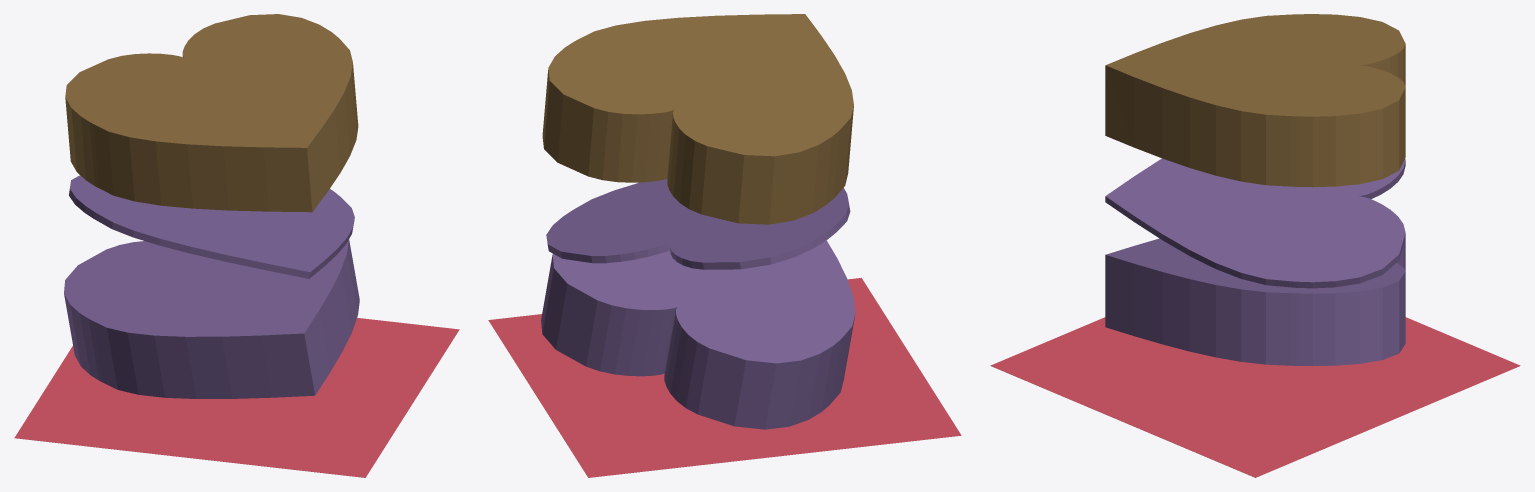
Rendered from UUC.glb.
The picture shows the model from 3 angles, left to right: view 1: azimuth 30°, elevation 25°; view 2: azimuth 150°, elevation 25°; view 3: azimuth 270°, elevation 25°; orthographic projection. The views are drawn at different scales.
Visible parts, largest first — view 1: Mesh_Mesh_head_geo.001_lambert2SG.001; view 2: Mesh_Mesh_head_geo.001_lambert2SG.001; view 3: Mesh_Mesh_head_geo.001_lambert2SG.001.
Boxes of the visible parts, bbox=[...] form: Mesh_Mesh_head_geo.001_lambert2SG.001: bbox=[14, 14, 459, 477]; Mesh_Mesh_head_geo.001_lambert2SG.001: bbox=[488, 14, 961, 477]; Mesh_Mesh_head_geo.001_lambert2SG.001: bbox=[990, 14, 1520, 477].
Bounding box in the file's own units: 0.0354 × 0.0229 × 0.0354.
